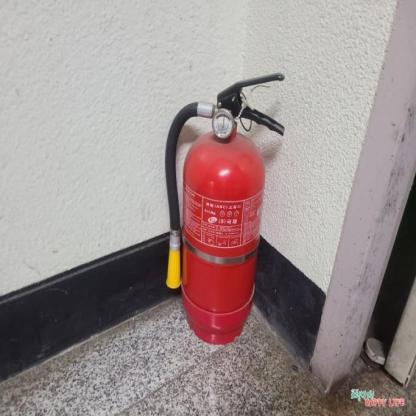Fire Extinguisher: (159, 67, 292, 348)
